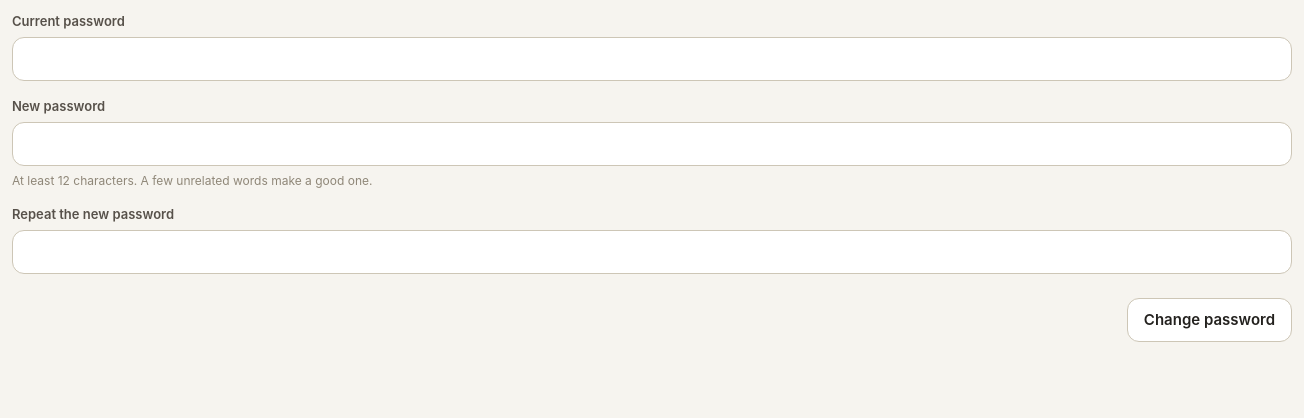
Test case: ChangePasswordForm › changes the password and empties the form
The width and height of the screenshot is (1304, 418).
Step 1. Type "correct horse battery" into the password field labelled "Current password" → (652, 59), box [12, 37, 1292, 81]
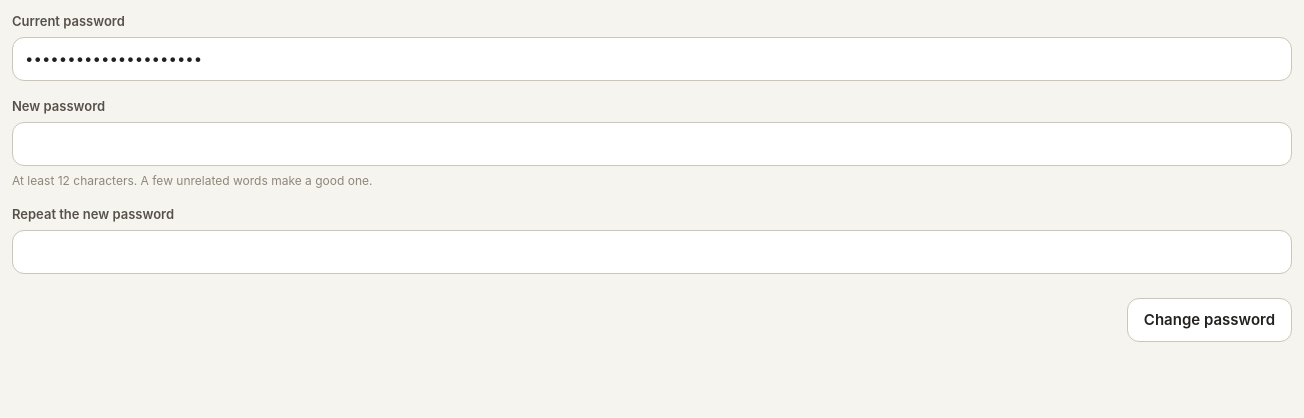
Step 2. Type "a brand new secret" into the password field labelled "New password" → (652, 144), box [12, 122, 1292, 166]
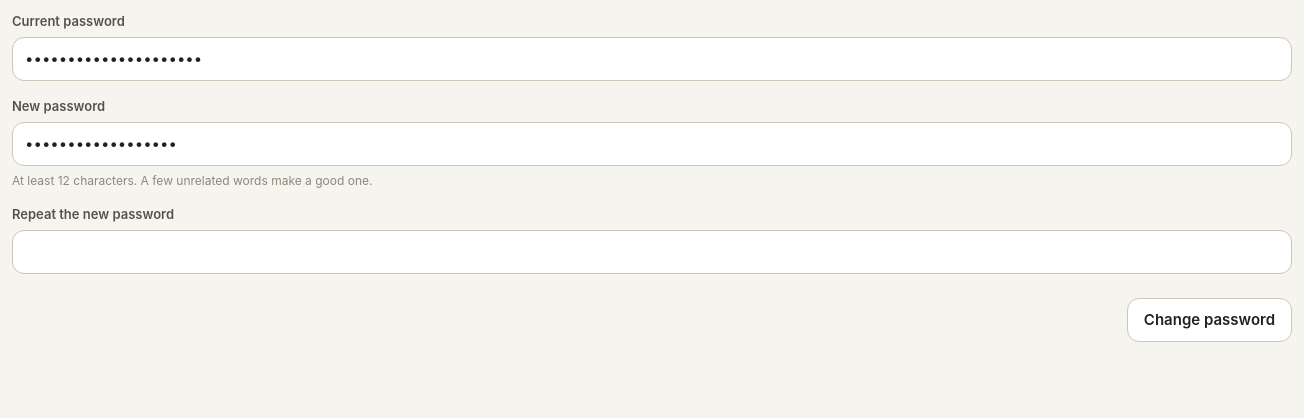
Step 3. Type "a brand new secret" into the password field labelled "Repeat the new password" → (652, 252), box [12, 230, 1292, 274]
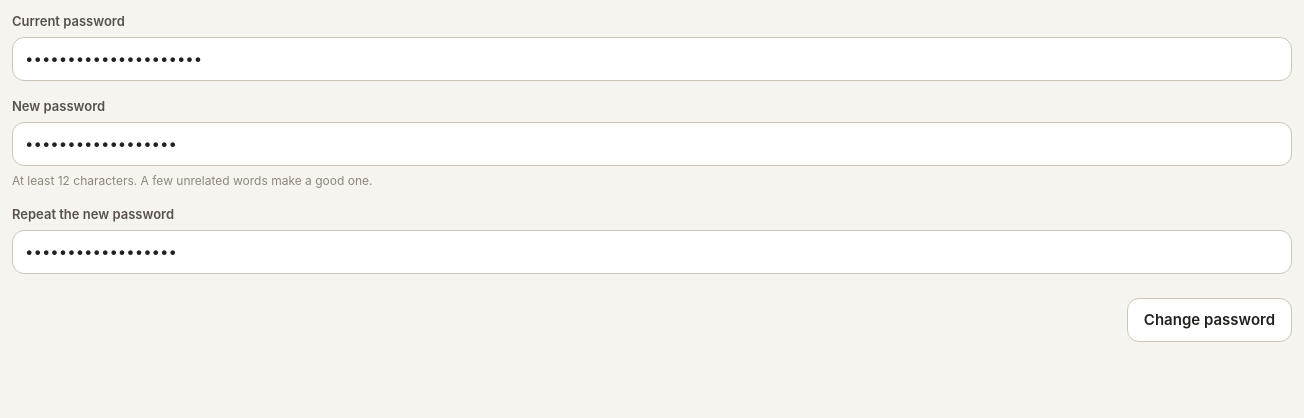
Step 4. Click the button "Change password" → (1209, 320), box [1127, 298, 1292, 342]
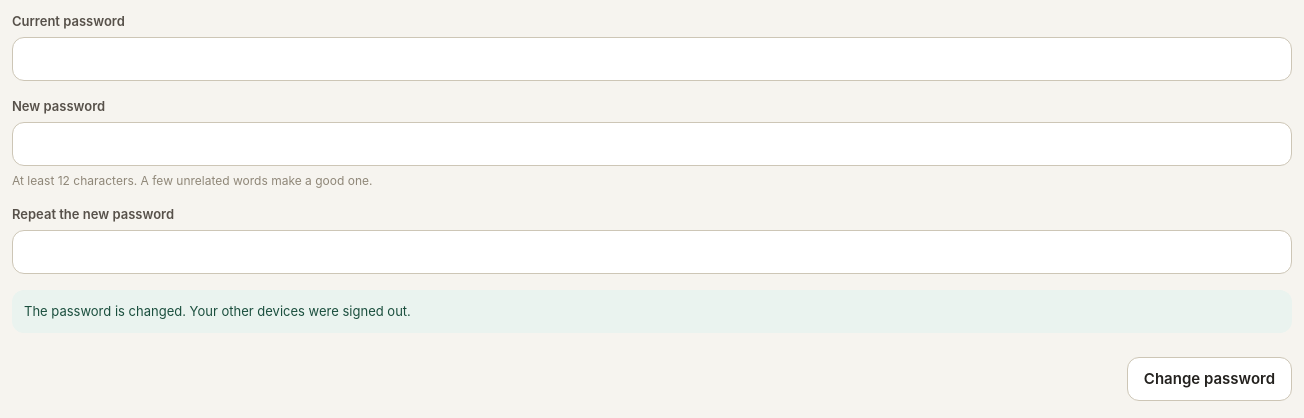
Check: the message shows "Your other devices were signed out.", box [24, 303, 411, 319]
Check: the password field labelled "New password" is empty, box [12, 122, 1292, 166]
